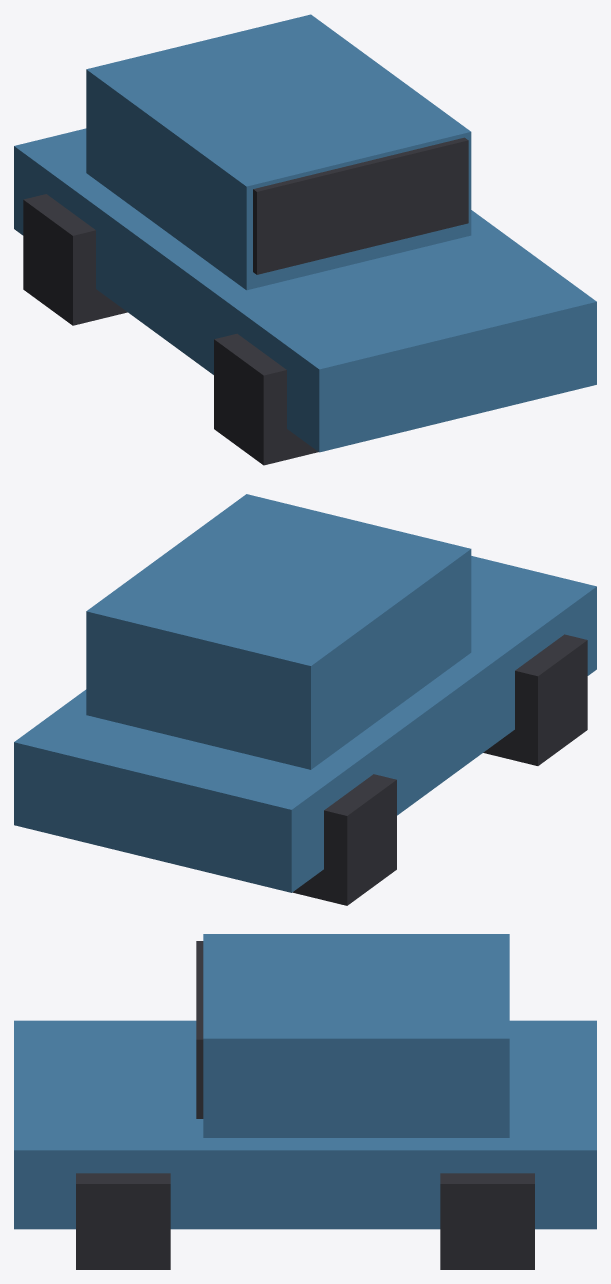
The model's file is automotive-low.glb.
3 views of the same model, one above another, from view 1: azimuth 30°, elevation 25°; view 2: azimuth 150°, elevation 25°; view 3: azimuth 270°, elevation 25° (orthographic). The views are drawn at different scales.
Parts seen in each view (by area): view 1: chassis, cabin, windscreen, wheel (×2); view 2: cabin, chassis, wheel (×2); view 3: chassis, cabin, wheel (×2), windscreen.
Boxes of the visible parts, box(x1,y1,x2,y2) form: chassis: box(14, 128, 596, 452); cabin: box(86, 14, 471, 290); windscreen: box(253, 137, 468, 274); wheel (×2): box(23, 194, 318, 465); cabin: box(86, 494, 471, 769); chassis: box(14, 556, 596, 892); wheel (×2): box(292, 634, 587, 905); chassis: box(14, 1020, 596, 1229); cabin: box(203, 934, 509, 1137); wheel (×2): box(76, 1173, 534, 1269); windscreen: box(196, 941, 203, 1118).
Bounding box in the file's own units: 2.45 × 1.57 × 4.
